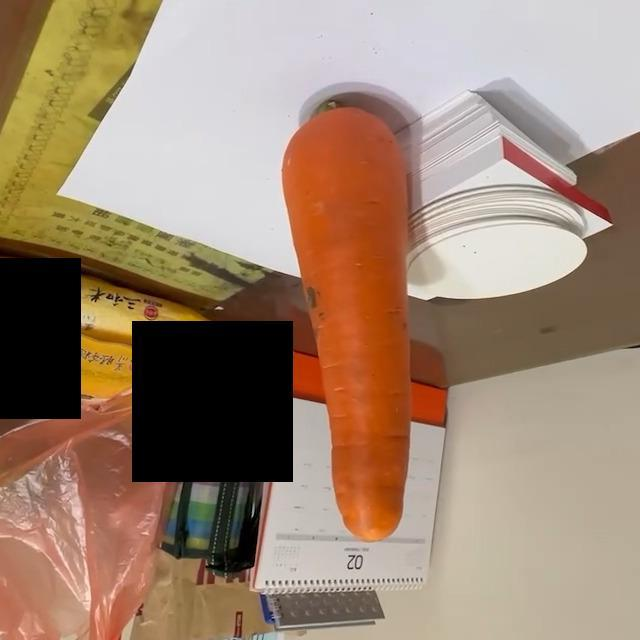carrot: (281, 101, 418, 542)
